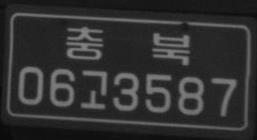0: (17, 64, 44, 106)
3: (112, 71, 140, 112)
5: (144, 72, 173, 112)
6: (49, 67, 75, 107)
7: (210, 76, 238, 117)
8: (177, 75, 205, 116)
고: (79, 69, 107, 109)
충북_D: (65, 25, 191, 66)
